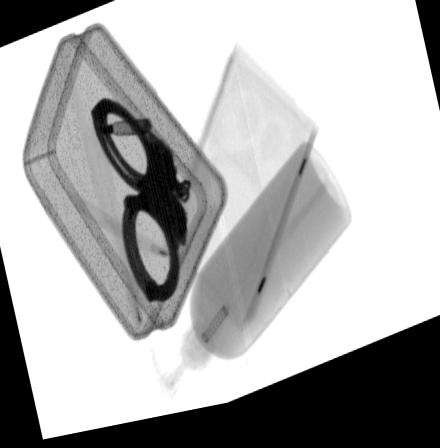Bullet: (92, 123, 151, 138)
HandCuffs: (88, 99, 190, 312)
